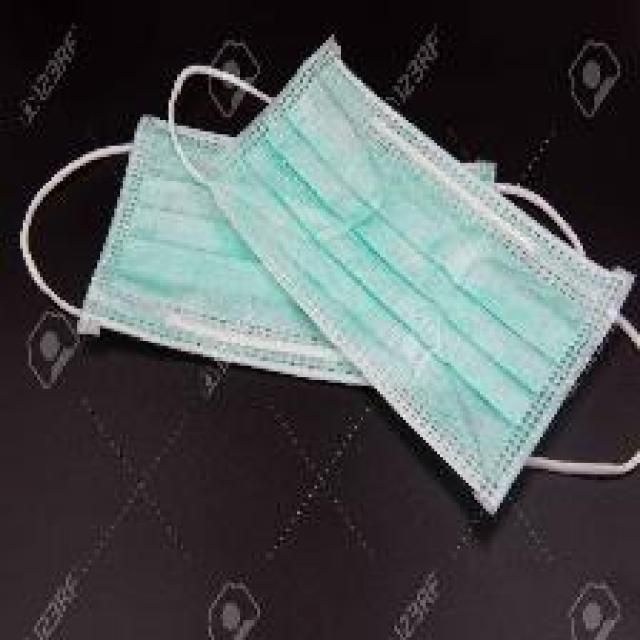Mask: (40, 62, 632, 505)
